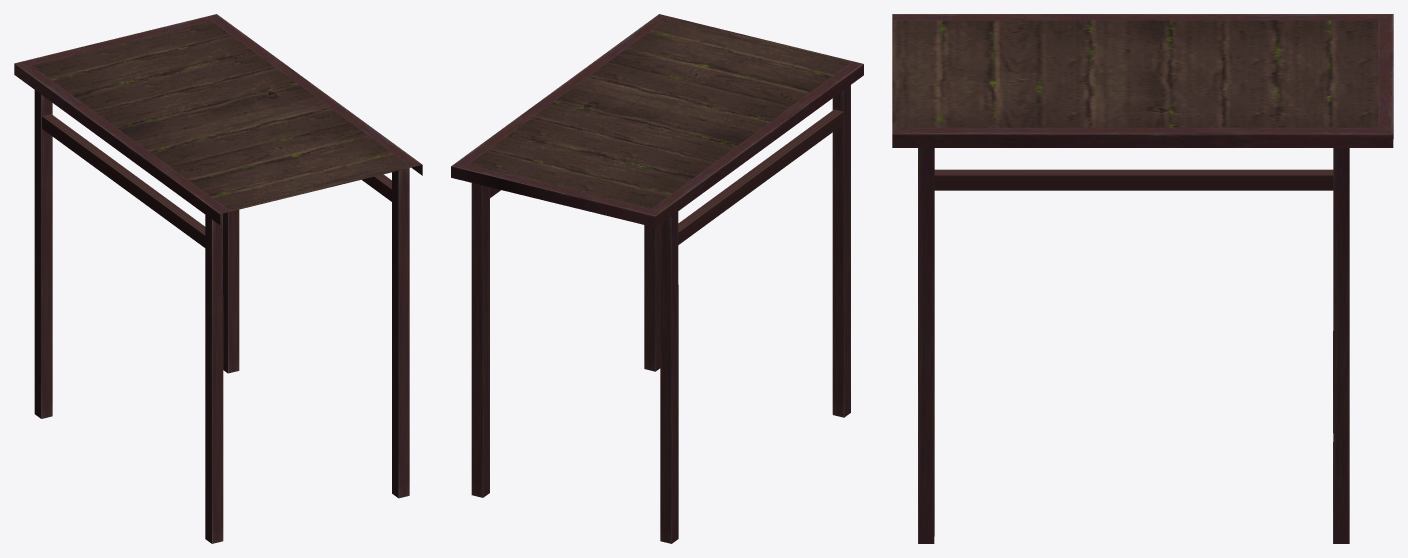
Rendered from zc_suzhou_muqiao02.FBX.
The picture shows the model from 3 angles, left to right: view 1: azimuth 30°, elevation 25°; view 2: azimuth 150°, elevation 25°; view 3: azimuth 270°, elevation 25°; orthographic projection. The views are drawn at different scales.
Parts seen in each view (by area): view 1: zc_suzhou_muqiao02; view 2: zc_suzhou_muqiao02; view 3: zc_suzhou_muqiao02.
Part boxes in pixels (x1,y1,x2,y2): zc_suzhou_muqiao02: (14, 14, 422, 543); zc_suzhou_muqiao02: (451, 14, 863, 543); zc_suzhou_muqiao02: (892, 14, 1393, 543).
Size of the model in its own units: 264 by 421 by 466.
1 material, 1 textured.
